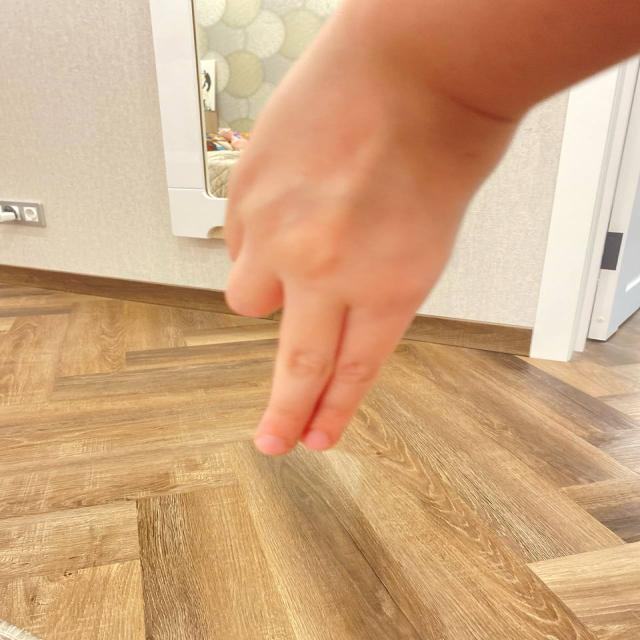p: (189, 34, 487, 468)
